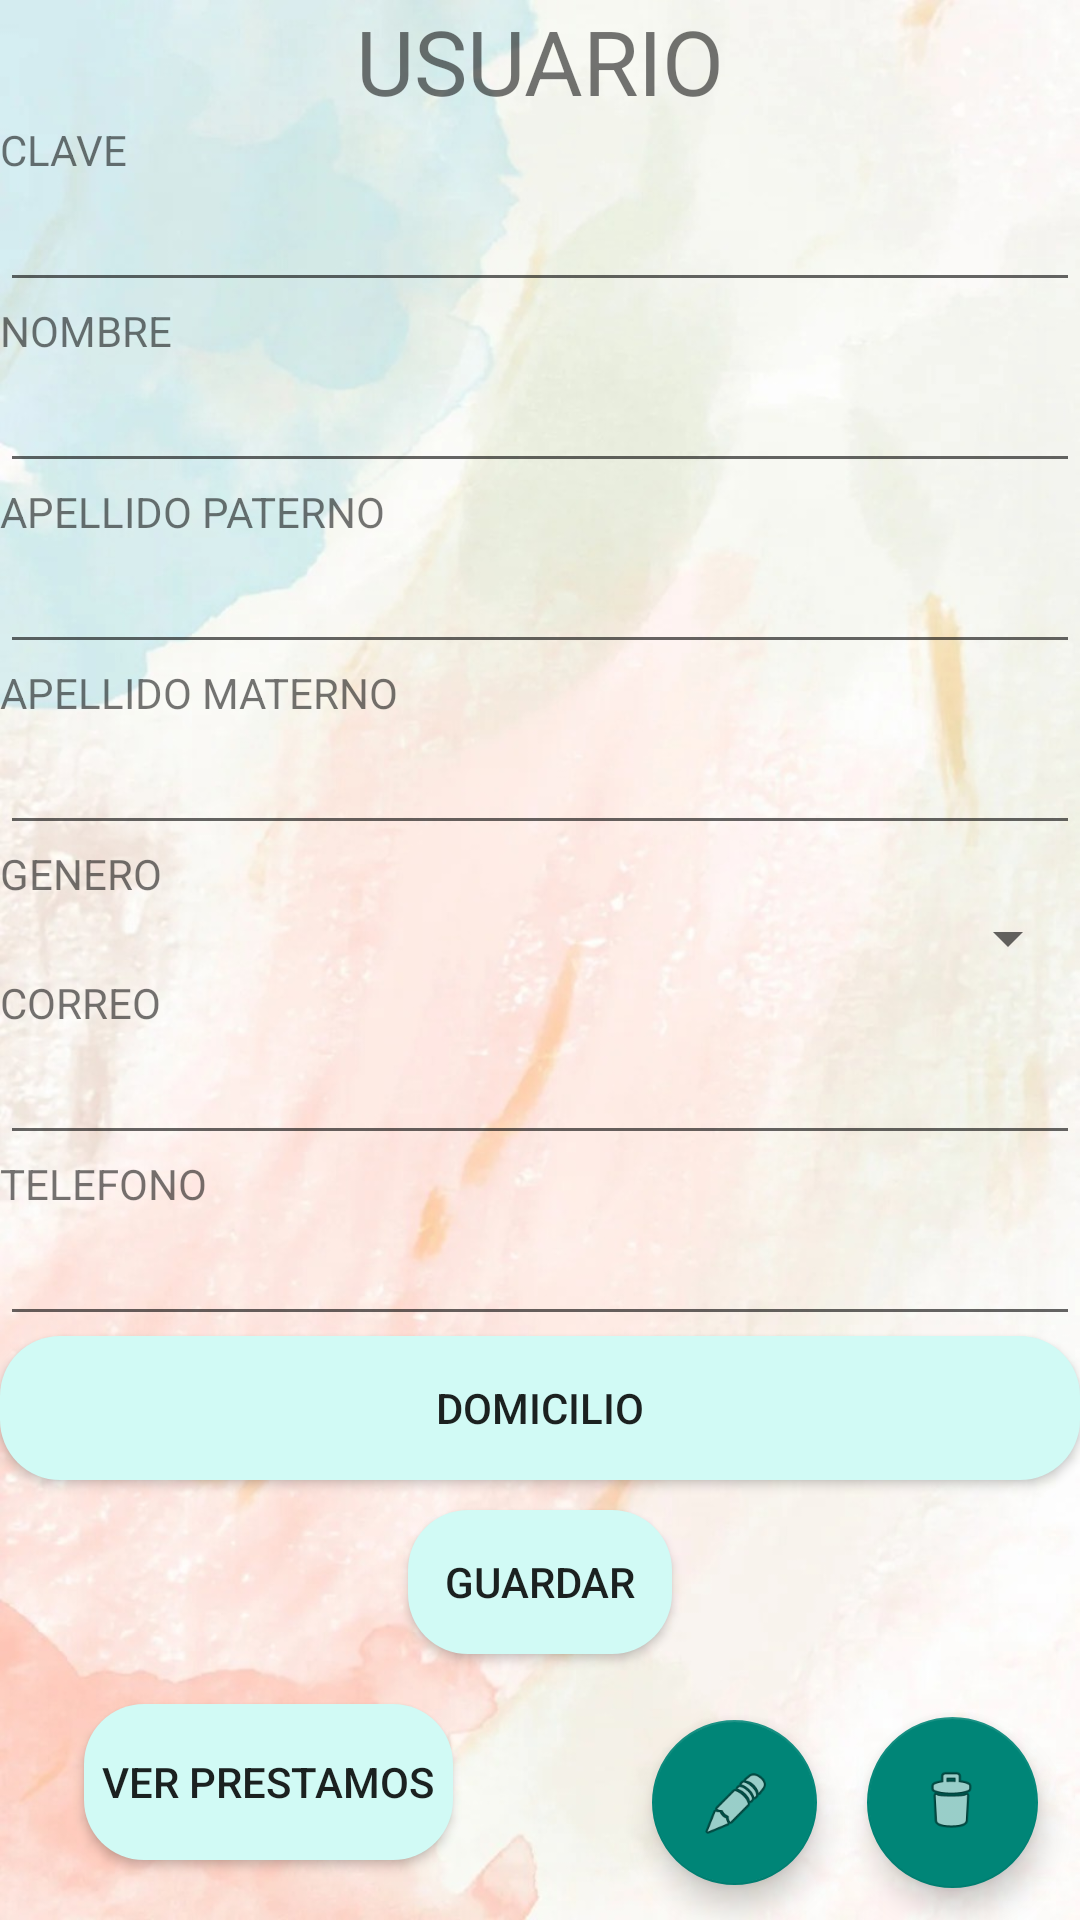

Named icons in this screenshot (1080w x 1920h) and their centers, (x,y):
delete: (952,1802)
edit: (734,1802)
